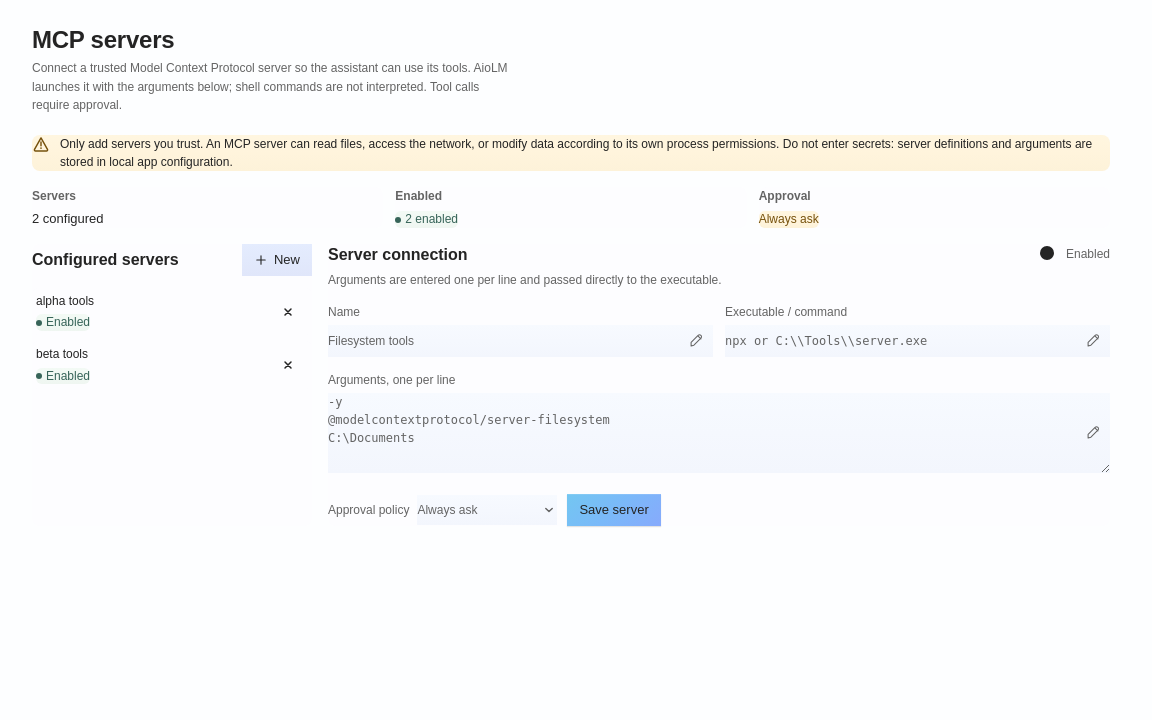
MCP discovery selection ownership › allows discovery for the new server immediately and discards late metadata from the previous server
Expected: the text "alpha tools" is shown, [36,292,94,310]
Click the button "alpha tools Enabled": (152, 312) [36,292,268,332]
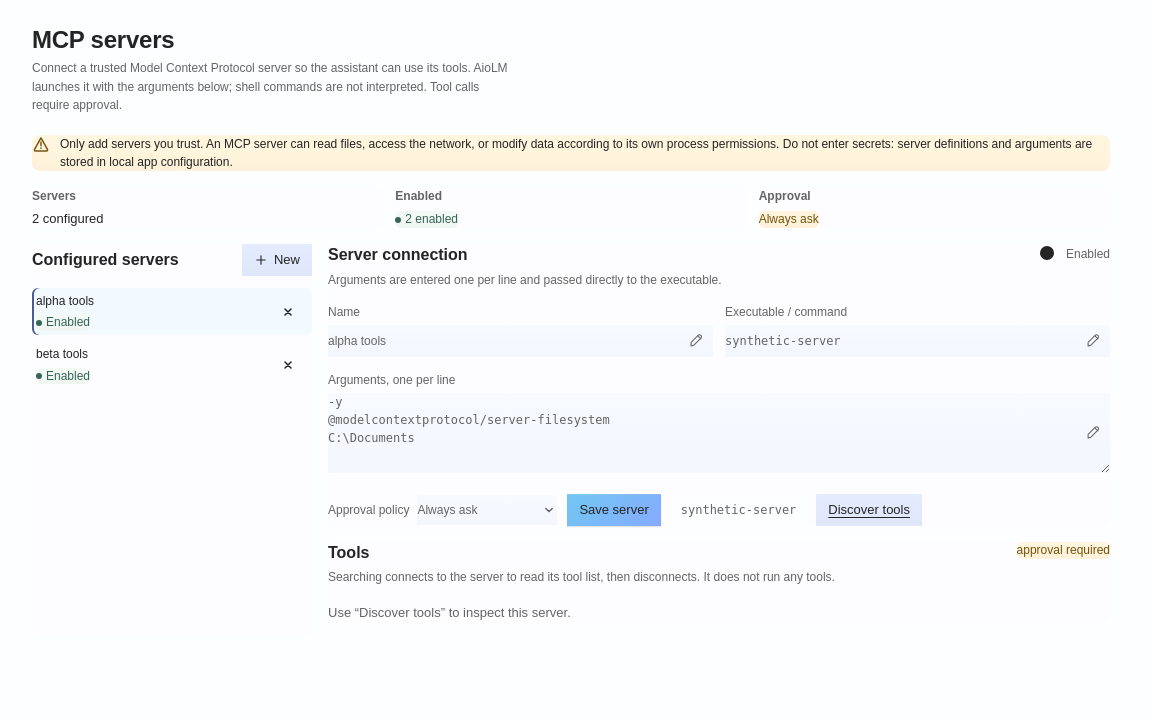
Click the button named "Discover tools": (869, 510) [816,494,922,526]
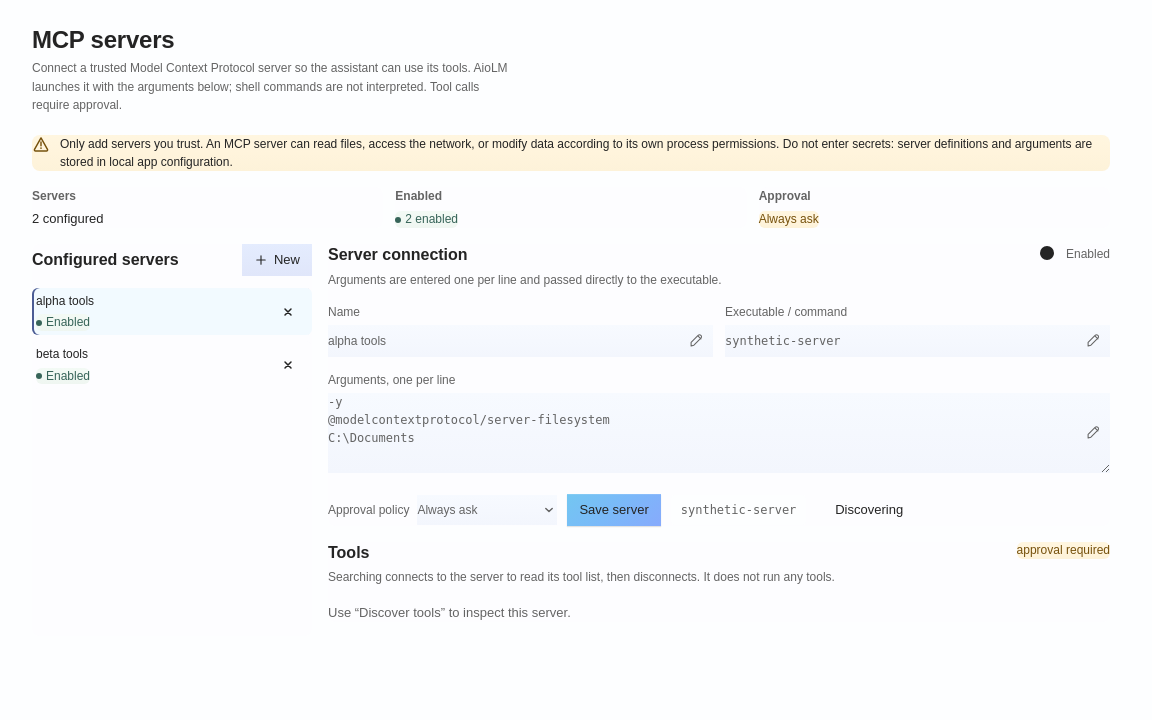
Click the button "beta tools Enabled": (152, 365) [36,346,268,385]
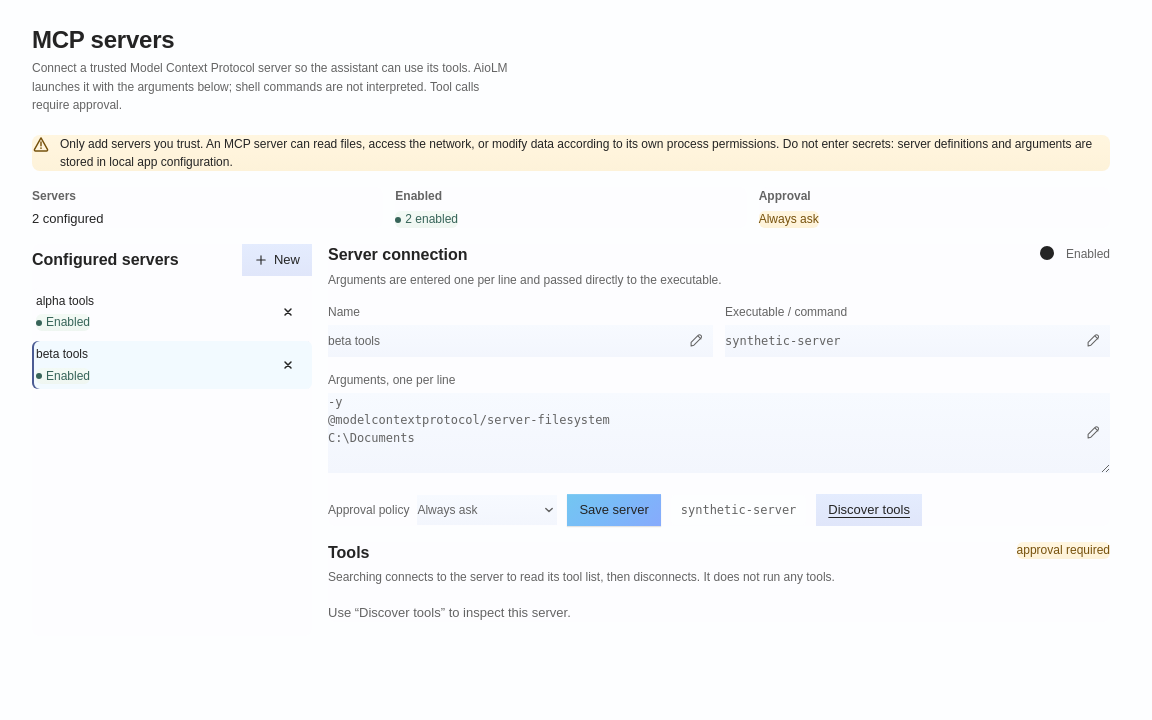
Expected: the button named "Discover tools" is enabled, [816,494,922,526]
